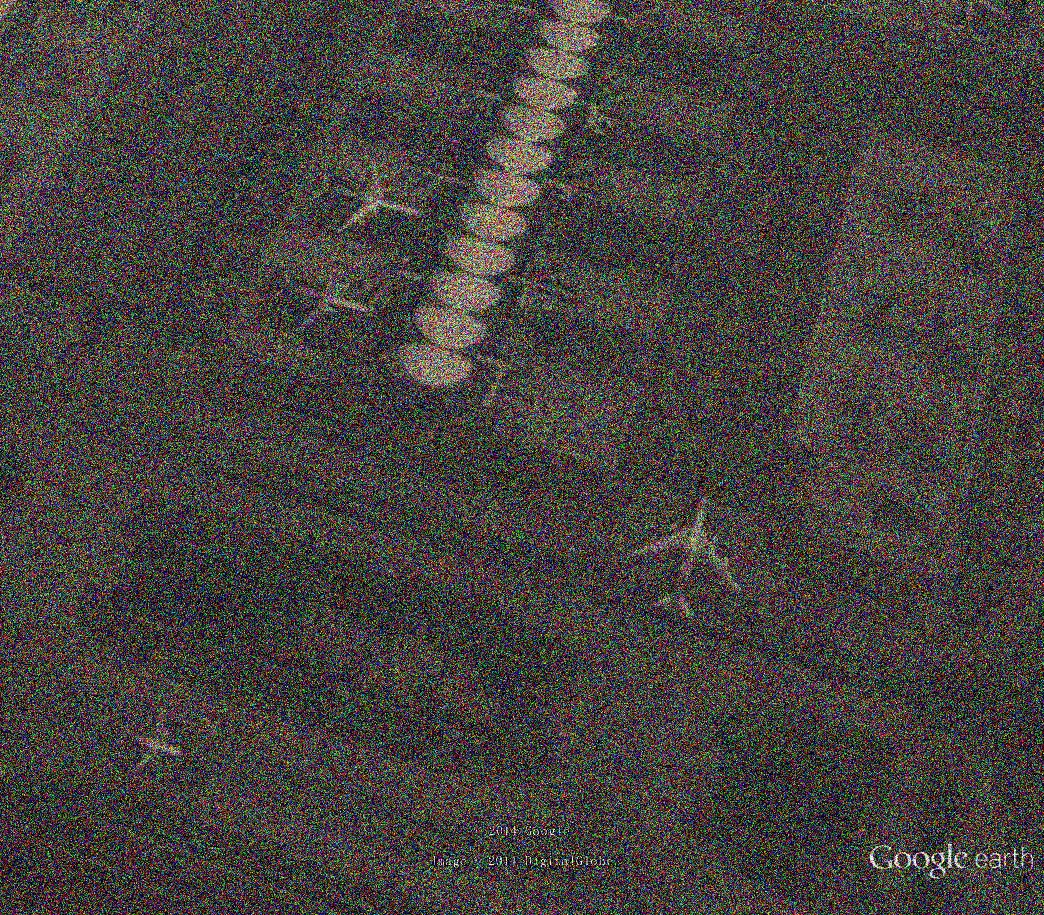aircraft: (618, 487, 745, 627), (264, 249, 384, 342), (303, 150, 427, 238), (111, 702, 190, 781)
